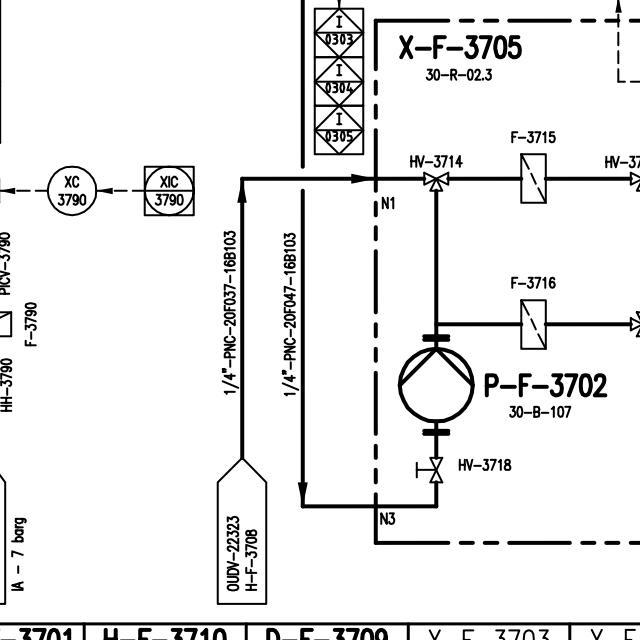3W: (418, 167, 454, 195)
F2: (515, 148, 555, 208), (515, 294, 552, 353)
HV: (412, 452, 448, 488)
P: (397, 346, 475, 424)
